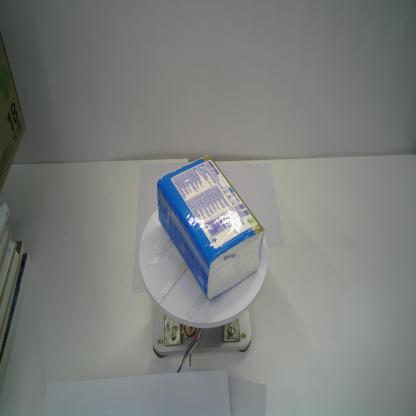Tissue: (155, 153, 265, 304)
